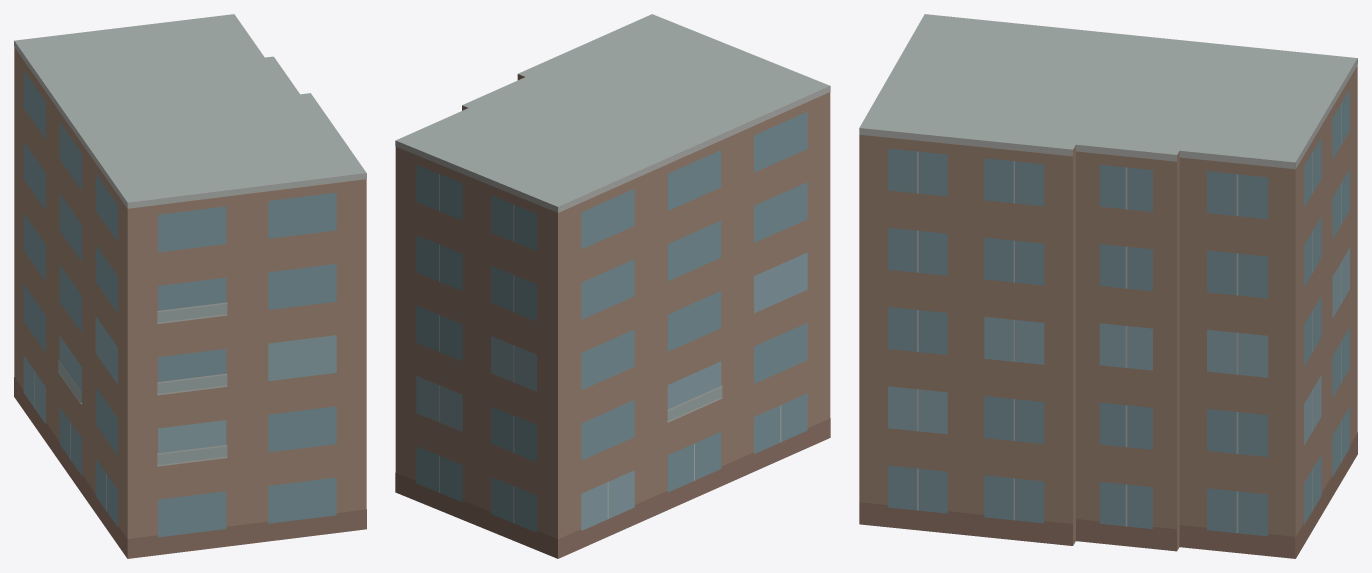
The model's file is survey-upis-32741695.glb.
3 views of the same model, side by side, from view 1: azimuth 30°, elevation 25°; view 2: azimuth 150°, elevation 25°; view 3: azimuth 270°, elevation 25° (orthographic). The views are drawn at different scales.
Visible parts, largest first — view 1: survey-upis-32741695.tmp; view 2: survey-upis-32741695.tmp; view 3: survey-upis-32741695.tmp.
Boxes of the visible parts, x1,y1,x2,y2 form: survey-upis-32741695.tmp: (14,14,366,558); survey-upis-32741695.tmp: (395,14,830,558); survey-upis-32741695.tmp: (859,14,1357,558).
Bounding box in the file's own units: 11.54 × 14.35 × 16.36.
